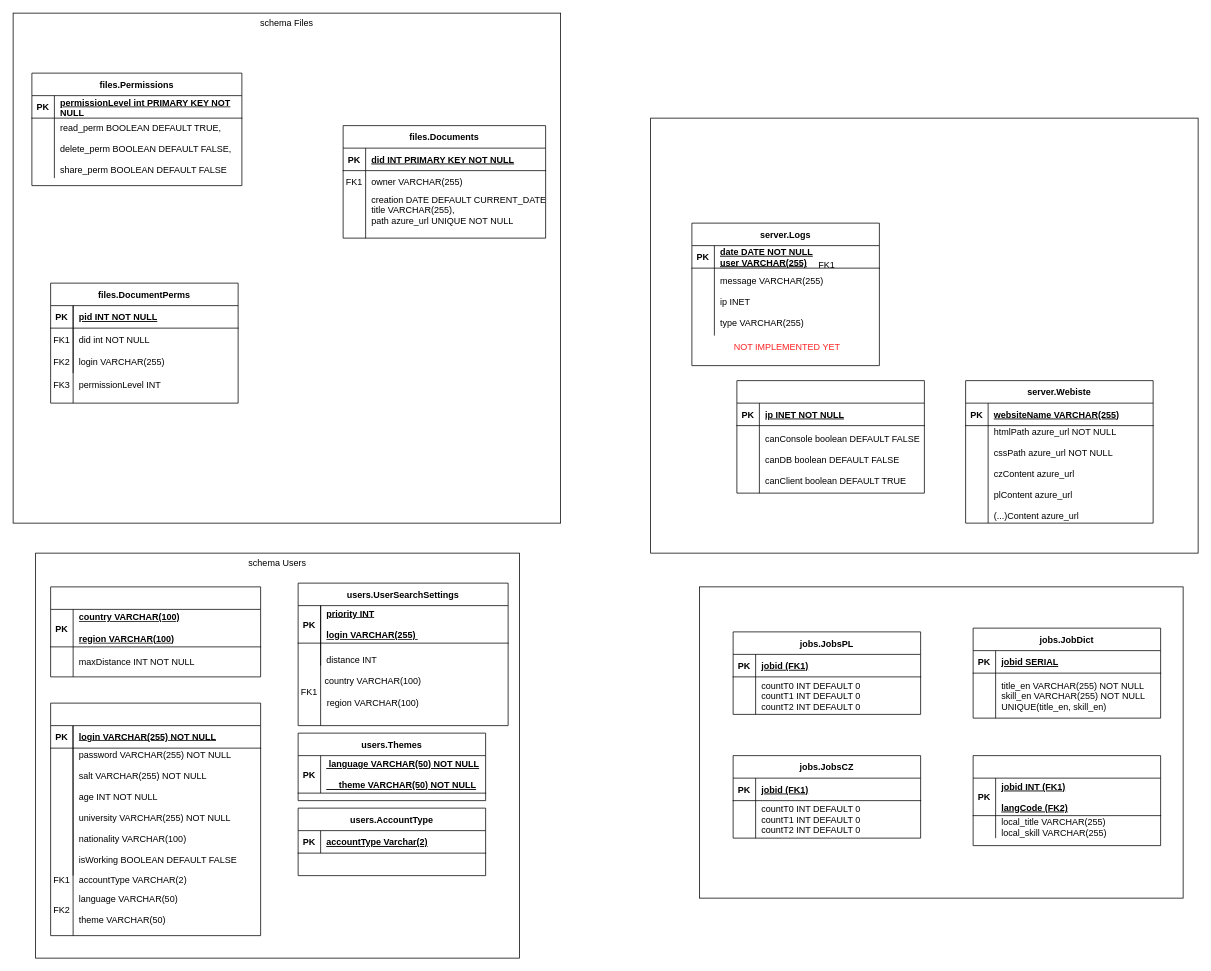
Some shapes in this 1211 by 971 pixel diagram are drawn without their labels. The box of each missing label's shape, as (x1, y1, x2, y2) in pixels:
jobs.JobTranslations: (972, 755, 1161, 846)
schema Jobs: (699, 586, 1183, 898)
schema Server: (650, 117, 1198, 553)
server.IPWhitelist: (736, 380, 924, 493)
users.Regions: (50, 586, 261, 677)
users.User: (50, 702, 261, 936)
